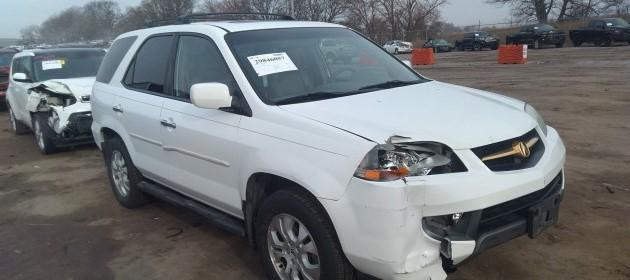Back-bumper: (92, 120, 104, 151)
Back-door: (107, 34, 173, 184)
Back-wheel: (103, 138, 151, 209)
Back-window: (120, 33, 175, 97), (96, 37, 137, 84)
Fender: (237, 103, 377, 200), (435, 81, 526, 111)
Front-bumper: (317, 124, 566, 280)
Front-door: (160, 33, 252, 220)
Front-wheel: (256, 188, 356, 280)
Front-window: (165, 33, 252, 117)
Grille: (470, 128, 545, 171)
Headlight: (353, 141, 467, 182), (524, 103, 547, 137)
Hood: (278, 81, 537, 150)
License-plate: (526, 194, 561, 239)
Mirror: (190, 83, 232, 111), (402, 61, 410, 66)
Quarter-panel: (90, 80, 110, 127)
Rocker-panel: (135, 179, 247, 236)
Roof: (117, 20, 345, 39)
Windshield: (224, 27, 432, 106)
